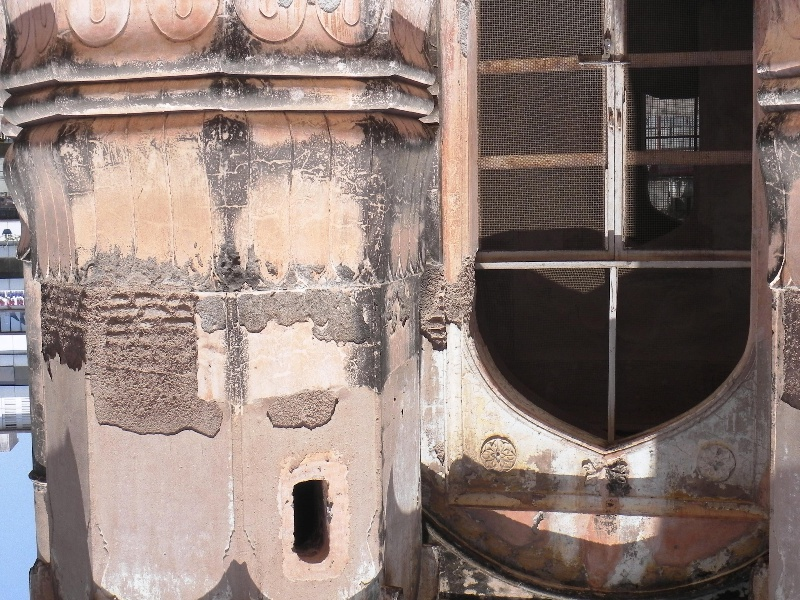Exposed Bricks: (38, 284, 197, 344), (428, 290, 446, 350)
Spalling: (81, 353, 236, 448), (241, 265, 379, 349), (447, 240, 488, 354), (262, 381, 346, 435)
